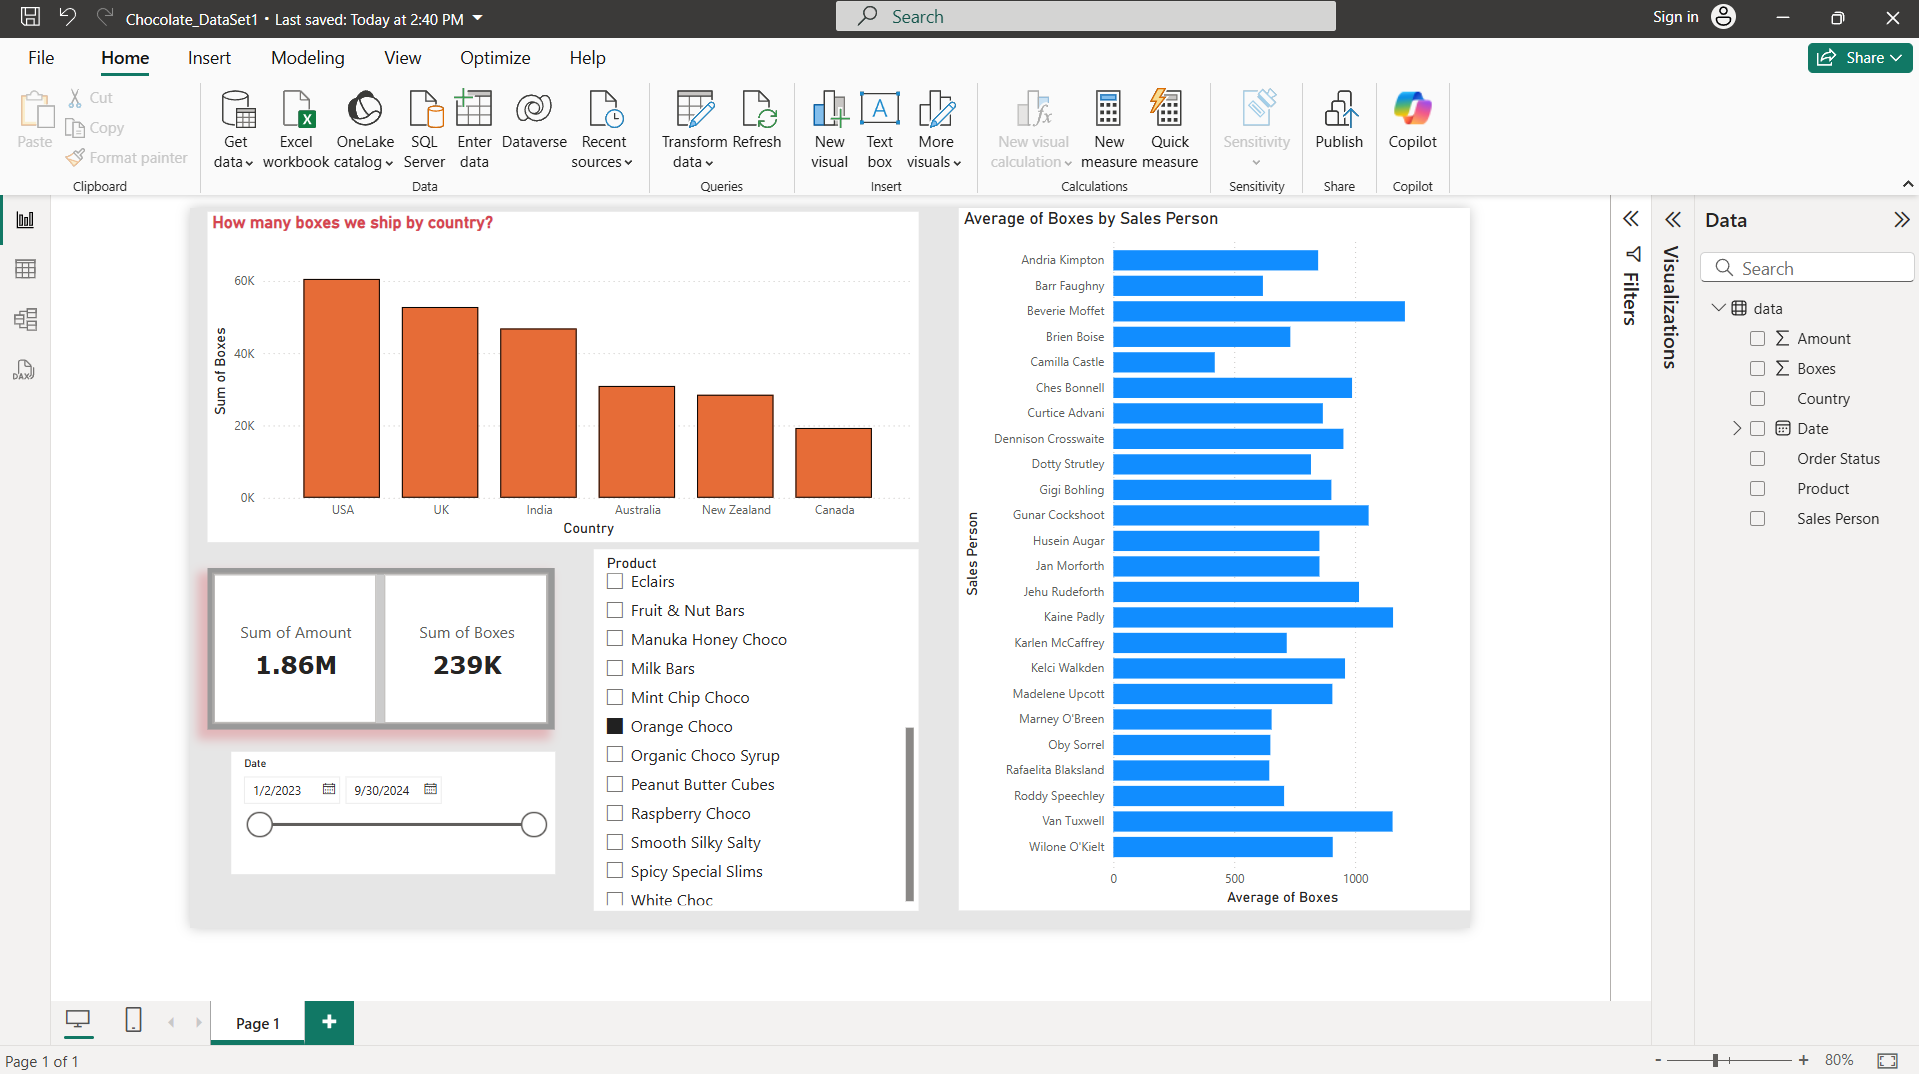

This screenshot's page, from the dashboard's own definition file:
{"tool":"powerbi","page":{"name":"Page 1","canvas":[1280,720],"ordinal":0},"visuals":[{"type":"columnChart","title":"How many boxes we ship by country?","fields":{"Category":["data.Country"],"Y":["Sum(data.Boxes)"]},"box":[17.5,3.8,711.2,330],"z":0},{"type":"clusteredBarChart","fields":{"Category":["data.Sales Person"],"Y":["Avg(data.Boxes)"]},"box":[768.8,0,511.2,702.5],"z":1000},{"type":"cardVisual","fields":{"Data":["Sum(data.Amount)","Sum(data.Boxes)"]},"box":[17.5,360,347.5,161.2],"z":2000},{"type":"slicer","fields":{"Values":["data.Product"]},"box":[403.8,341.2,325,361.2],"z":3000},{"type":"slicer","fields":{"Values":["data.Date"]},"box":[41.2,543.8,323.8,122.5],"z":4000}]}

Visuals, with their boxes on the page's 1280x720 design canvas (x1, y1, x2, y2). These are canvas units, not pixel positions in the 1919x1074 screenshot, which may show the page scaled, cropped or inside an application window:
"How many boxes we ship by country?" columnChart: region(18, 4, 729, 334)
clusteredBarChart - data.Sales Person x Avg(data.Boxes): region(769, 0, 1280, 702)
cardVisual - Sum(data.Amount) x Sum(data.Boxes): region(18, 360, 365, 521)
slicer - data.Product: region(404, 341, 729, 702)
slicer - data.Date: region(41, 544, 365, 666)
